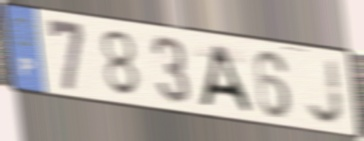3: (150, 33, 193, 107)
6: (252, 47, 293, 121)
7: (45, 15, 87, 95)
8: (99, 28, 140, 99)
A: (197, 42, 255, 115)
J: (305, 56, 347, 127)
